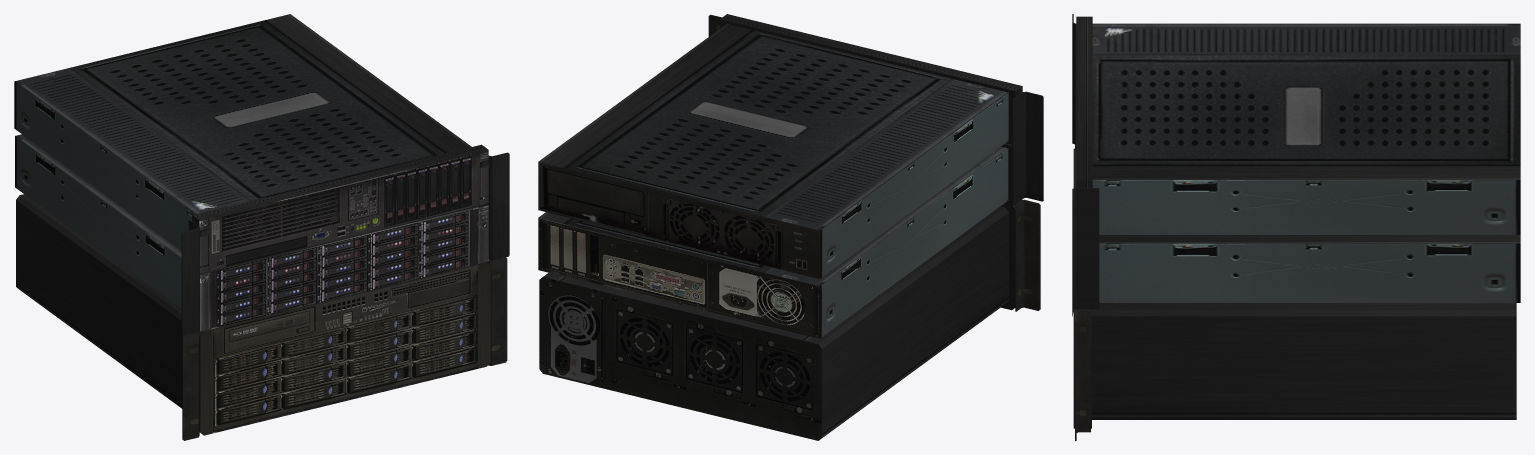
File: servers-2.FBX
3 views of the same model, side by side, from view 1: azimuth 30°, elevation 25°; view 2: azimuth 150°, elevation 25°; view 3: azimuth 270°, elevation 25° (orthographic). The views are drawn at different scales.
Visible parts, largest first — view 1: Object002, Object003; view 2: Object002, Object003; view 3: Object002, Object003.
Part boxes in pixels (<box>): Object002: <box>14,14,509,335</box>; Object003: <box>16,194,507,440</box>; Object002: <box>538,14,1043,338</box>; Object003: <box>539,199,1040,440</box>; Object002: <box>1072,14,1520,316</box>; Object003: <box>1073,144,1516,440</box>.
Bounding box in the file's own units: 31.14 × 19.67 × 31.86.
